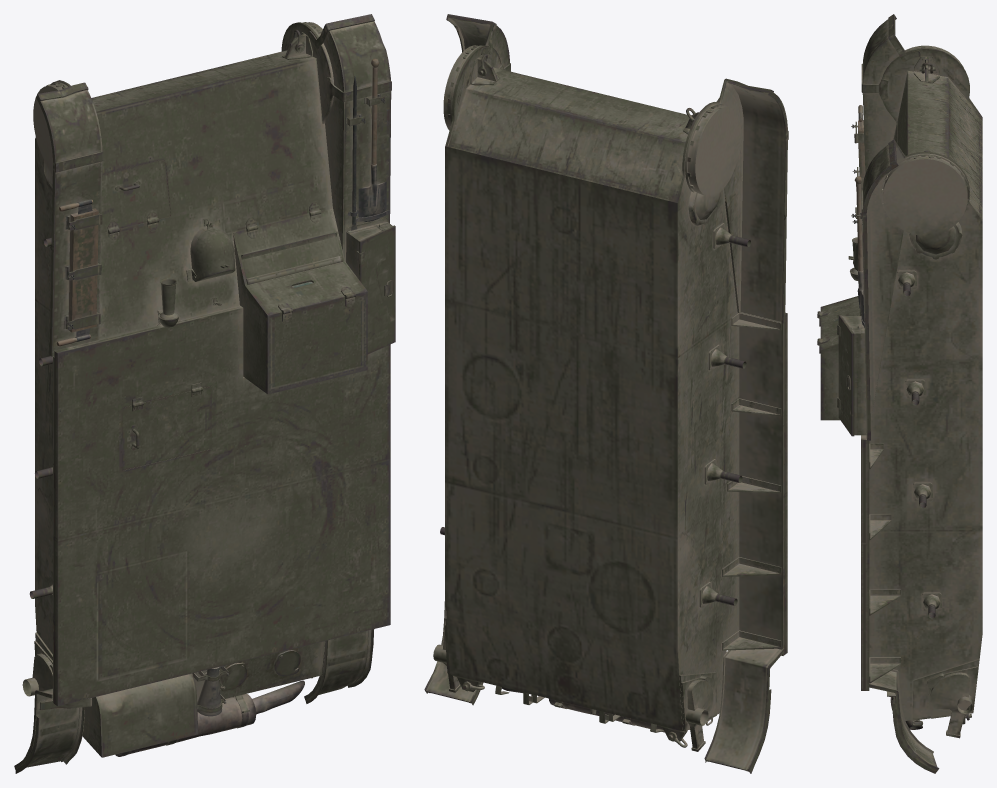
Rendered from Hull.glb.
3 renders of one model, left to right at view 1: azimuth 30°, elevation 25°; view 2: azimuth 150°, elevation 25°; view 3: azimuth 270°, elevation 25°, orthographic. The views are drawn at different scales.
Visible parts, largest first — view 1: set_0_group_0; view 2: set_0_group_0; view 3: set_0_group_0.
Part boxes in pixels (bbox=[...]): set_0_group_0: bbox=[14, 14, 395, 773]; set_0_group_0: bbox=[424, 14, 788, 773]; set_0_group_0: bbox=[817, 14, 982, 773].
Bounding box in the file's own units: 2.35 × 4.63 × 1.12.
Materials: 1 (1 with a texture image).
